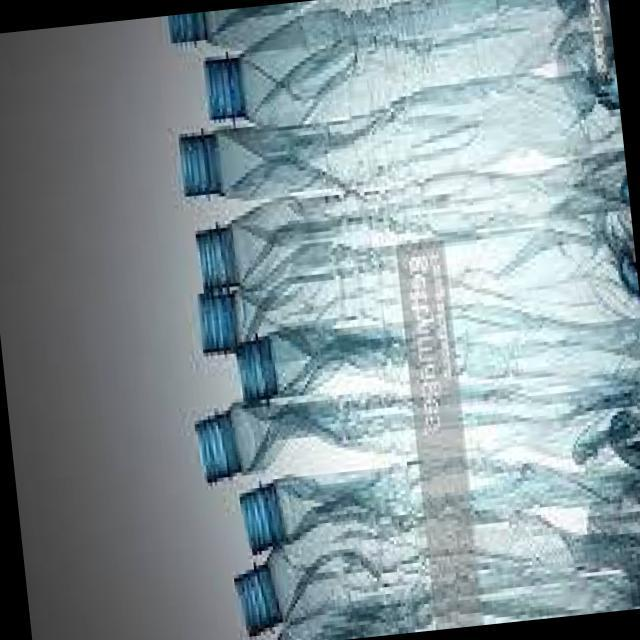defected: (221, 487, 640, 619), (253, 552, 640, 640), (230, 428, 414, 588), (188, 373, 332, 519)
good: (170, 65, 628, 232), (189, 138, 635, 298), (227, 266, 640, 436), (192, 0, 613, 155), (190, 226, 640, 367), (162, 0, 604, 57)
